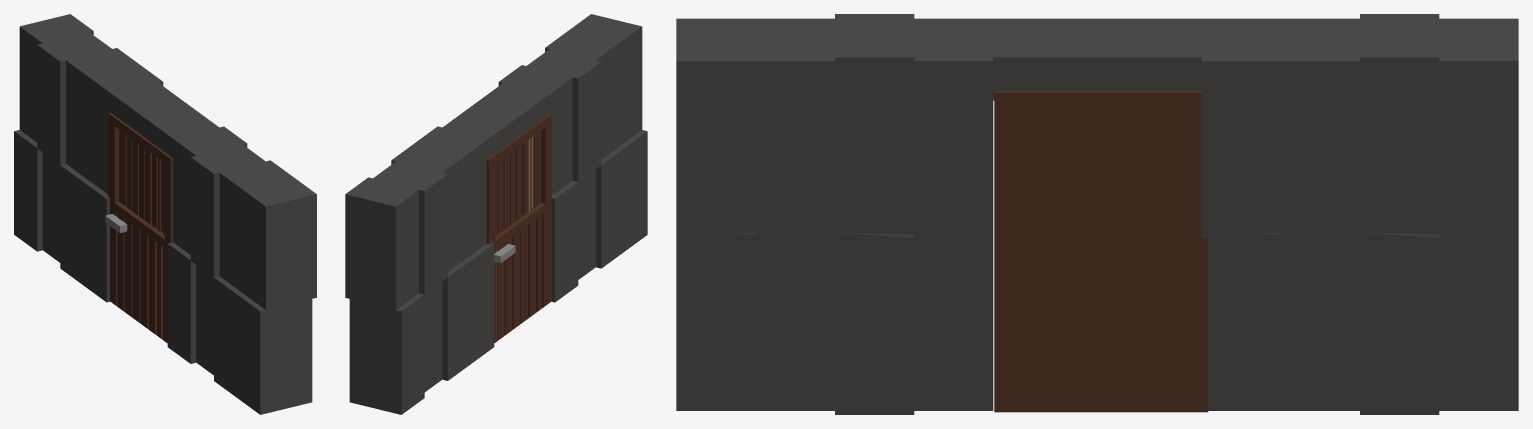
File: Wall_DOOR.fbx
3 renders of one model, left to right at view 1: azimuth 30°, elevation 25°; view 2: azimuth 150°, elevation 25°; view 3: azimuth 270°, elevation 25°, orthographic. The views are drawn at different scales.
Parts seen in each view (by area): view 1: Cube.007; view 2: Cube.007; view 3: Cube.007.
Part boxes in pixels (box(x1,y1,x2,y2)): Cube.007: box(14, 14, 316, 414); Cube.007: box(345, 14, 647, 414); Cube.007: box(676, 14, 1518, 414).
Size of the model in its own units: 262 by 854 by 1842.
